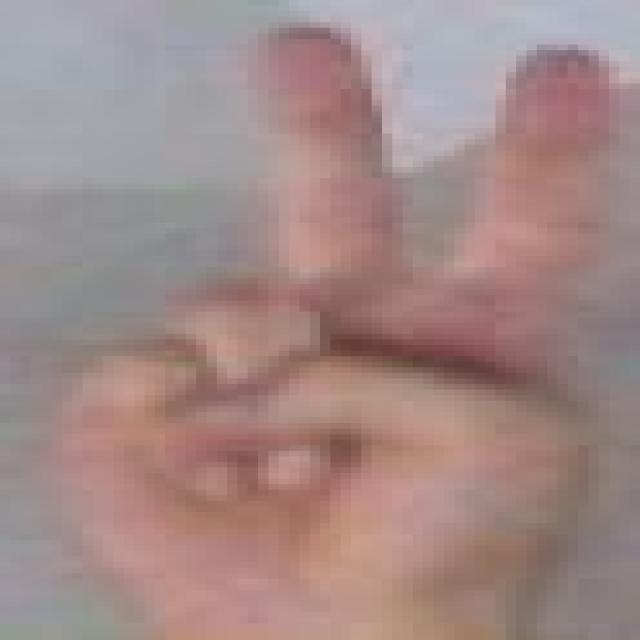V: (0, 0, 640, 634)
